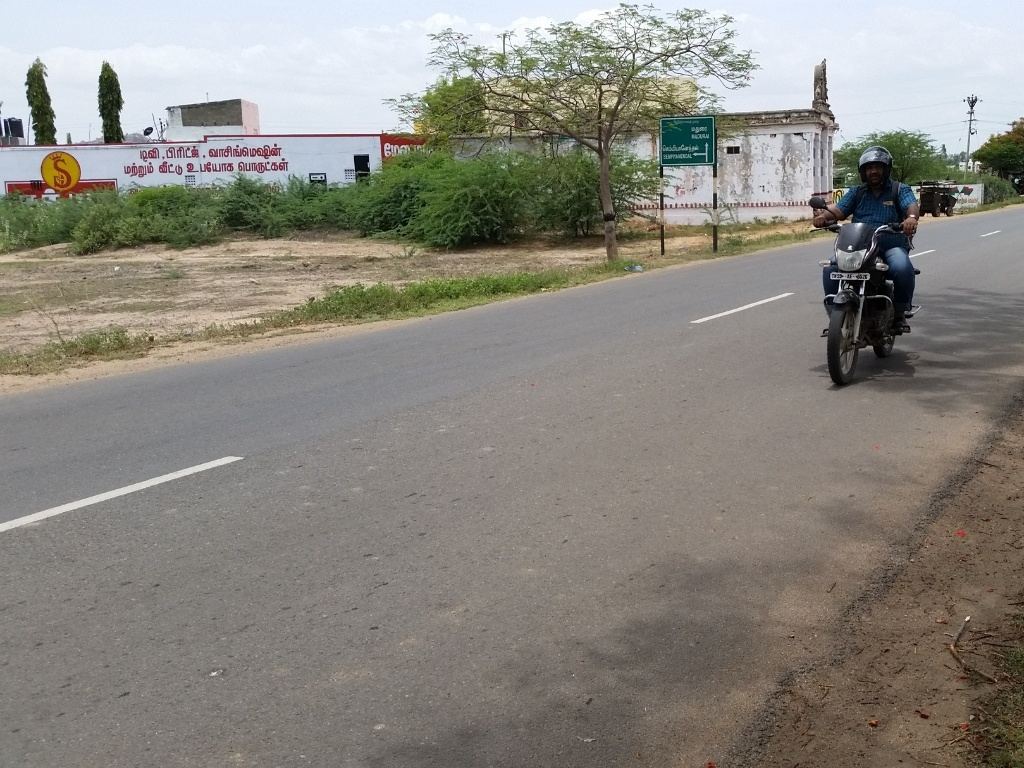biker: (794, 123, 950, 397)
helmet: (852, 140, 902, 197)
